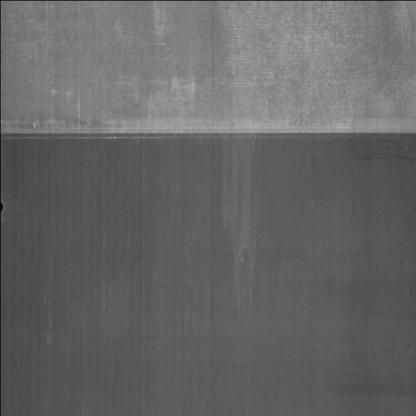welding_line: (1, 116, 416, 160)
